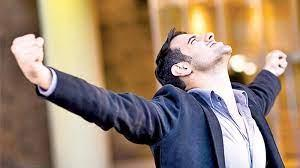Persons: (149, 24, 246, 102)
